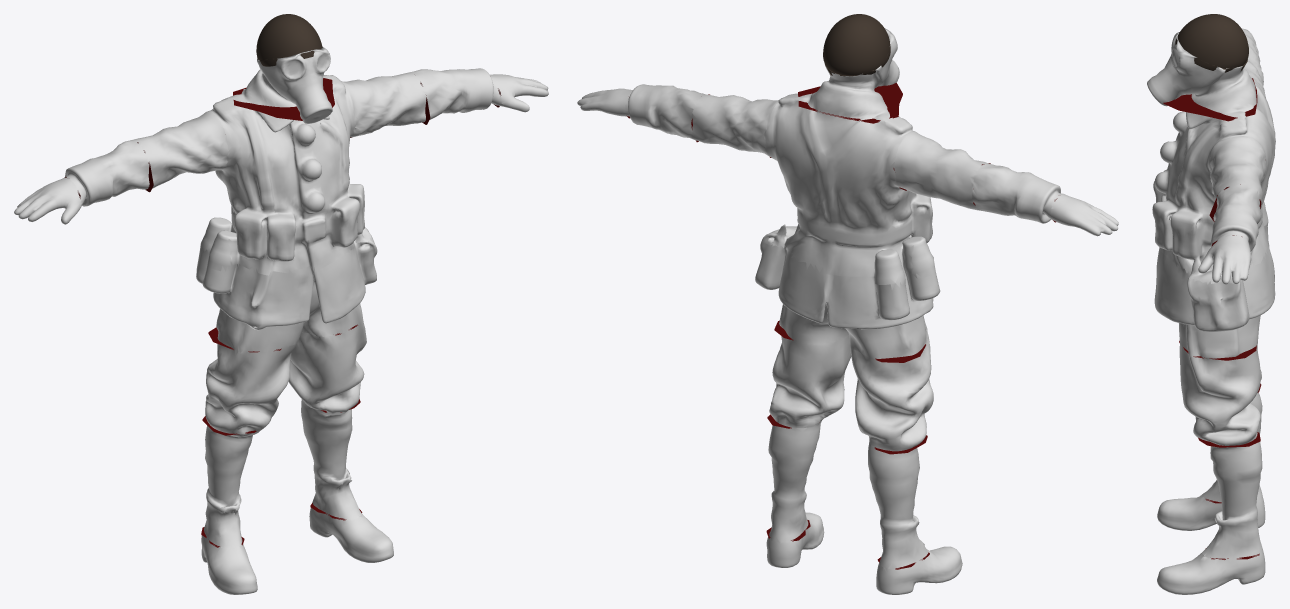
Rendered from witzsoldat_dark_gibs.glb.
The picture shows the model from 3 angles, left to right: view 1: azimuth 30°, elevation 25°; view 2: azimuth 150°, elevation 25°; view 3: azimuth 270°, elevation 25°; orthographic projection. The views are drawn at different scales.
Visible parts, largest first — view 1: Gib_Torso, Gib_Pelvis, Gib_Head, Gib_RightUpperLeg, Gib_LeftUpperLeg, Gib_LeftLowerLeg, Gib_RightLowerLeg, Gib_RightUpperArm, Gib_LeftUpperArm, Gib_RightLowerArm, Gib_LeftLowerArm, Gib_LeftFoot (+3 smaller); view 2: Gib_Torso, Gib_Pelvis, Gib_Head, Gib_RightUpperLeg, Gib_LeftUpperLeg, Gib_RightLowerLeg, Gib_LeftLowerLeg, Gib_RightUpperArm, Gib_LeftUpperArm, Gib_RightLowerArm, Gib_LeftLowerArm, Gib_RightFoot (+3 smaller); view 3: Gib_Torso, Gib_Pelvis, Gib_Head, Gib_LeftUpperLeg, Gib_LeftLowerLeg, Gib_LeftFoot, Gib_LeftUpperArm, Gib_LeftLowerArm, Gib_RightFoot, Gib_LeftHand, Gib_RightLowerLeg, Gib_RightUpperArm (+1 smaller).
Boxes of the visible parts, <box> form: Gib_Torso: <box>200,75,371,275</box>; Gib_Pelvis: <box>196,231,377,352</box>; Gib_Head: <box>228,14,334,120</box>; Gib_RightUpperLeg: <box>202,327,297,435</box>; Gib_LeftUpperLeg: <box>288,323,366,413</box>; Gib_LeftLowerLeg: <box>301,399,361,520</box>; Gib_RightLowerLeg: <box>201,416,260,548</box>; Gib_RightUpperArm: <box>133,111,228,192</box>; Gib_LeftUpperArm: <box>341,72,430,137</box>; Gib_RightLowerArm: <box>64,140,153,206</box>; Gib_LeftLowerArm: <box>409,68,501,124</box>; Gib_LeftFoot: <box>309,503,393,562</box>; Gib_Torso: <box>762,82,935,290</box>; Gib_Pelvis: <box>755,241,940,362</box>; Gib_Head: <box>792,14,902,123</box>; Gib_RightUpperLeg: <box>850,341,933,454</box>; Gib_LeftUpperLeg: <box>767,320,851,428</box>; Gib_RightLowerLeg: <box>868,435,929,569</box>; Gib_LeftLowerLeg: <box>766,414,821,541</box>; Gib_RightUpperArm: <box>893,131,990,210</box>; Gib_LeftUpperArm: <box>691,94,778,157</box>; Gib_RightLowerArm: <box>972,163,1063,223</box>; Gib_LeftLowerArm: <box>625,84,709,142</box>; Gib_RightFoot: <box>876,546,962,594</box>; Gib_Torso: <box>1152,78,1275,284</box>; Gib_Pelvis: <box>1154,222,1275,360</box>; Gib_Head: <box>1147,14,1257,121</box>; Gib_LeftUpperLeg: <box>1179,341,1260,447</box>; Gib_LeftLowerLeg: <box>1196,432,1263,559</box>; Gib_LeftFoot: <box>1157,548,1265,594</box>; Gib_LeftUpperArm: <box>1209,137,1266,221</box>; Gib_LeftLowerArm: <box>1209,184,1261,251</box>; Gib_RightFoot: <box>1157,493,1265,530</box>; Gib_LeftHand: <box>1198,235,1251,284</box>; Gib_RightLowerLeg: <box>1203,383,1262,503</box>; Gib_RightUpperArm: <box>1243,51,1264,92</box>.
Size of the model in its own units: 1.91 by 1.88 by 0.4072.
